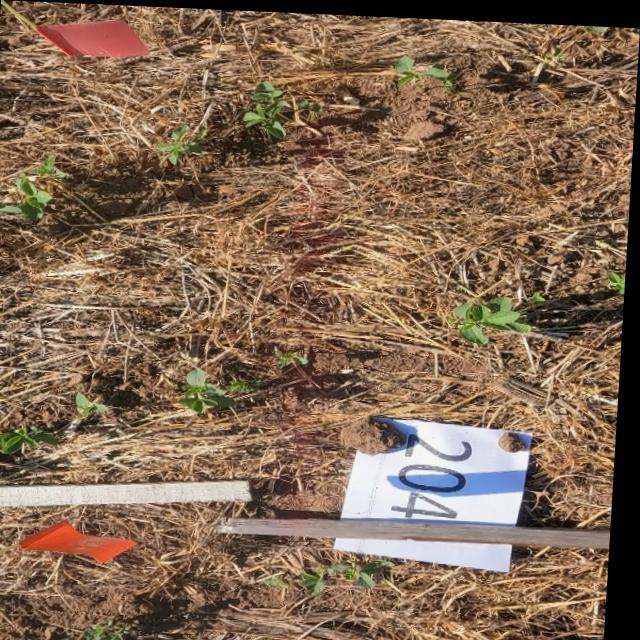soy_plant: (0, 391, 114, 453), (243, 78, 319, 136), (0, 155, 66, 218), (457, 292, 535, 340), (184, 366, 264, 411), (307, 556, 400, 592), (159, 118, 208, 163), (394, 52, 456, 87), (65, 621, 135, 640), (278, 347, 311, 365), (610, 267, 628, 288), (270, 574, 295, 584), (532, 57, 543, 79), (498, 50, 510, 66), (586, 22, 609, 28)
